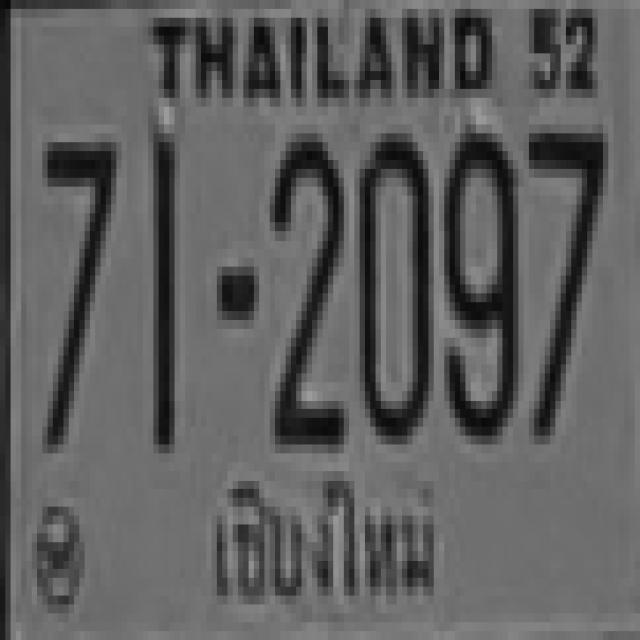0: (354, 124, 428, 436)
1: (148, 133, 175, 444)
2: (267, 129, 341, 440)
7: (524, 124, 603, 436), (40, 133, 114, 444), (42, 134, 111, 374)
9: (439, 124, 513, 436)
ChiangMai: (198, 464, 451, 623)
